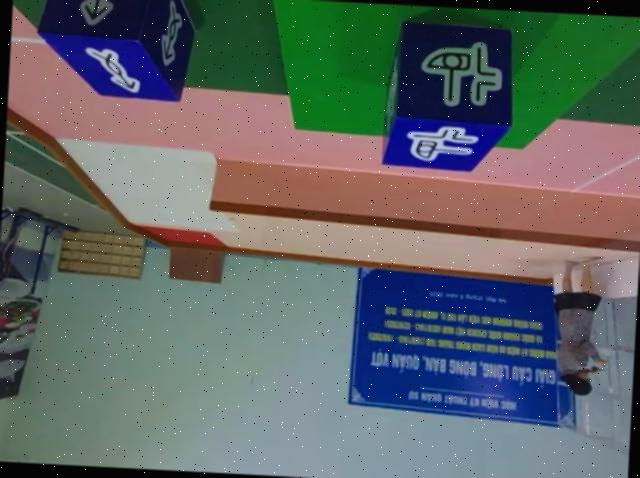R2 Real Blue: (379, 17, 515, 174), (33, 0, 194, 100)
